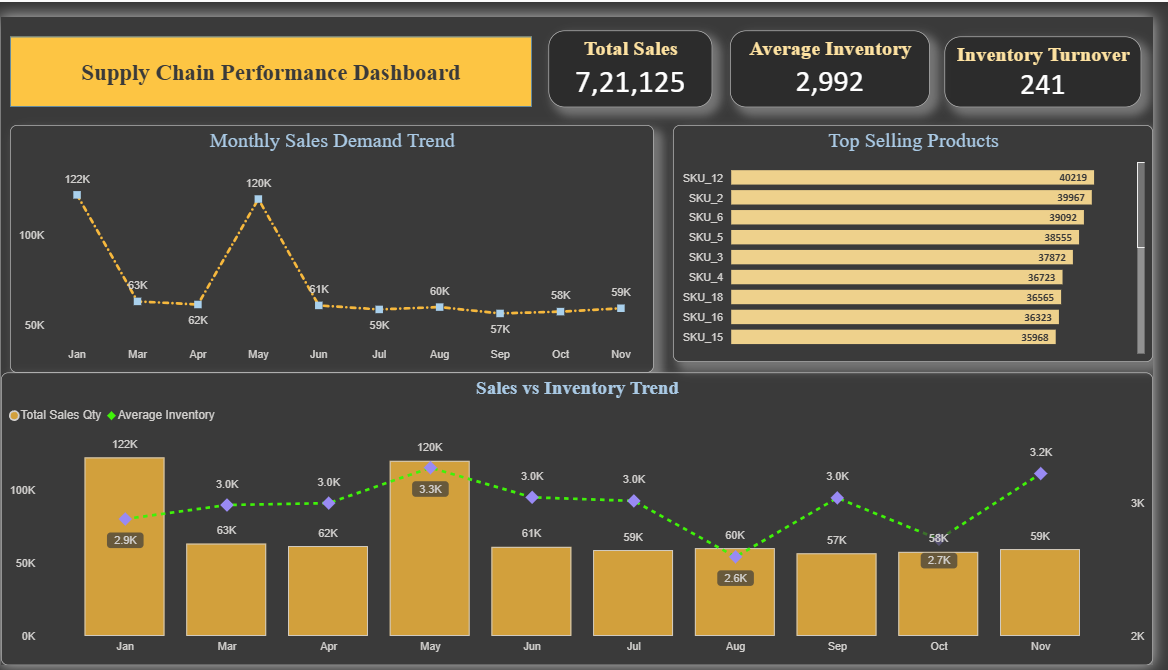

Layout of this report page (visuals, bound fields, positions):
{"tool":"powerbi","page":{"name":"Supply Chain Performance","canvas":[1280,720],"ordinal":0},"visuals":[{"type":"card","title":"Total Sales","fields":{"Values":["Measures (2).Total Sales Qty"]},"box":[608.3,15,181.7,85],"z":0},{"type":"card","title":"Average Inventory","fields":{"Values":["Measures (2).Average Inventory"]},"box":[810,15,221.7,85],"z":1000},{"type":"card","title":"Inventory Turnover","fields":{"Values":["Measures (2).Inventory Turnover"]},"box":[1048.3,21.7,218.3,78.3],"z":2000},{"type":"lineChart","title":"Monthly Sales Demand Trend","fields":{"Y":["Measures (2).Total Sales Qty"],"Category":["Date_Table.Month Name"]},"box":[10,120,715,275],"z":5000},{"type":"lineStackedColumnComboChart","title":"Sales vs Inventory Trend","fields":{"Y":["Measures (2).Total Sales Qty"],"Y2":["Measures (2).Average Inventory"],"Category":["Date_Table.Month Name"]},"box":[0,395,1280,325],"z":6000},{"type":"clusteredBarChart","title":"Top Selling Products","fields":{"Y":["Measures (2).Total Sales Qty"],"Category":["Product_Master.SKU"]},"box":[746.7,120,533.3,263.3],"z":6001},{"type":"shape","box":[10,21.7,580,78.3],"z":6002}]}

Visuals, with their boxes in screenshot pixels (x1, y1, x2, y2), scaled from the page's 1280x720 canvas onto the 1168x670 screenshot:
"Total Sales" card: box=[555, 14, 721, 93]
"Average Inventory" card: box=[739, 14, 941, 93]
"Inventory Turnover" card: box=[957, 20, 1156, 93]
"Monthly Sales Demand Trend" lineChart: box=[9, 112, 662, 368]
"Sales vs Inventory Trend" lineStackedColumnComboChart: box=[0, 368, 1167, 669]
"Top Selling Products" clusteredBarChart: box=[681, 112, 1167, 357]
shape: box=[9, 20, 538, 93]
